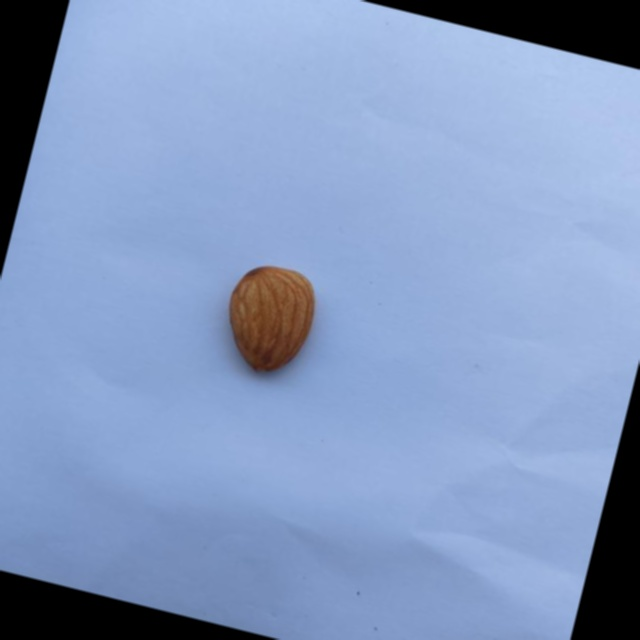grade1: (207, 249, 335, 392)
